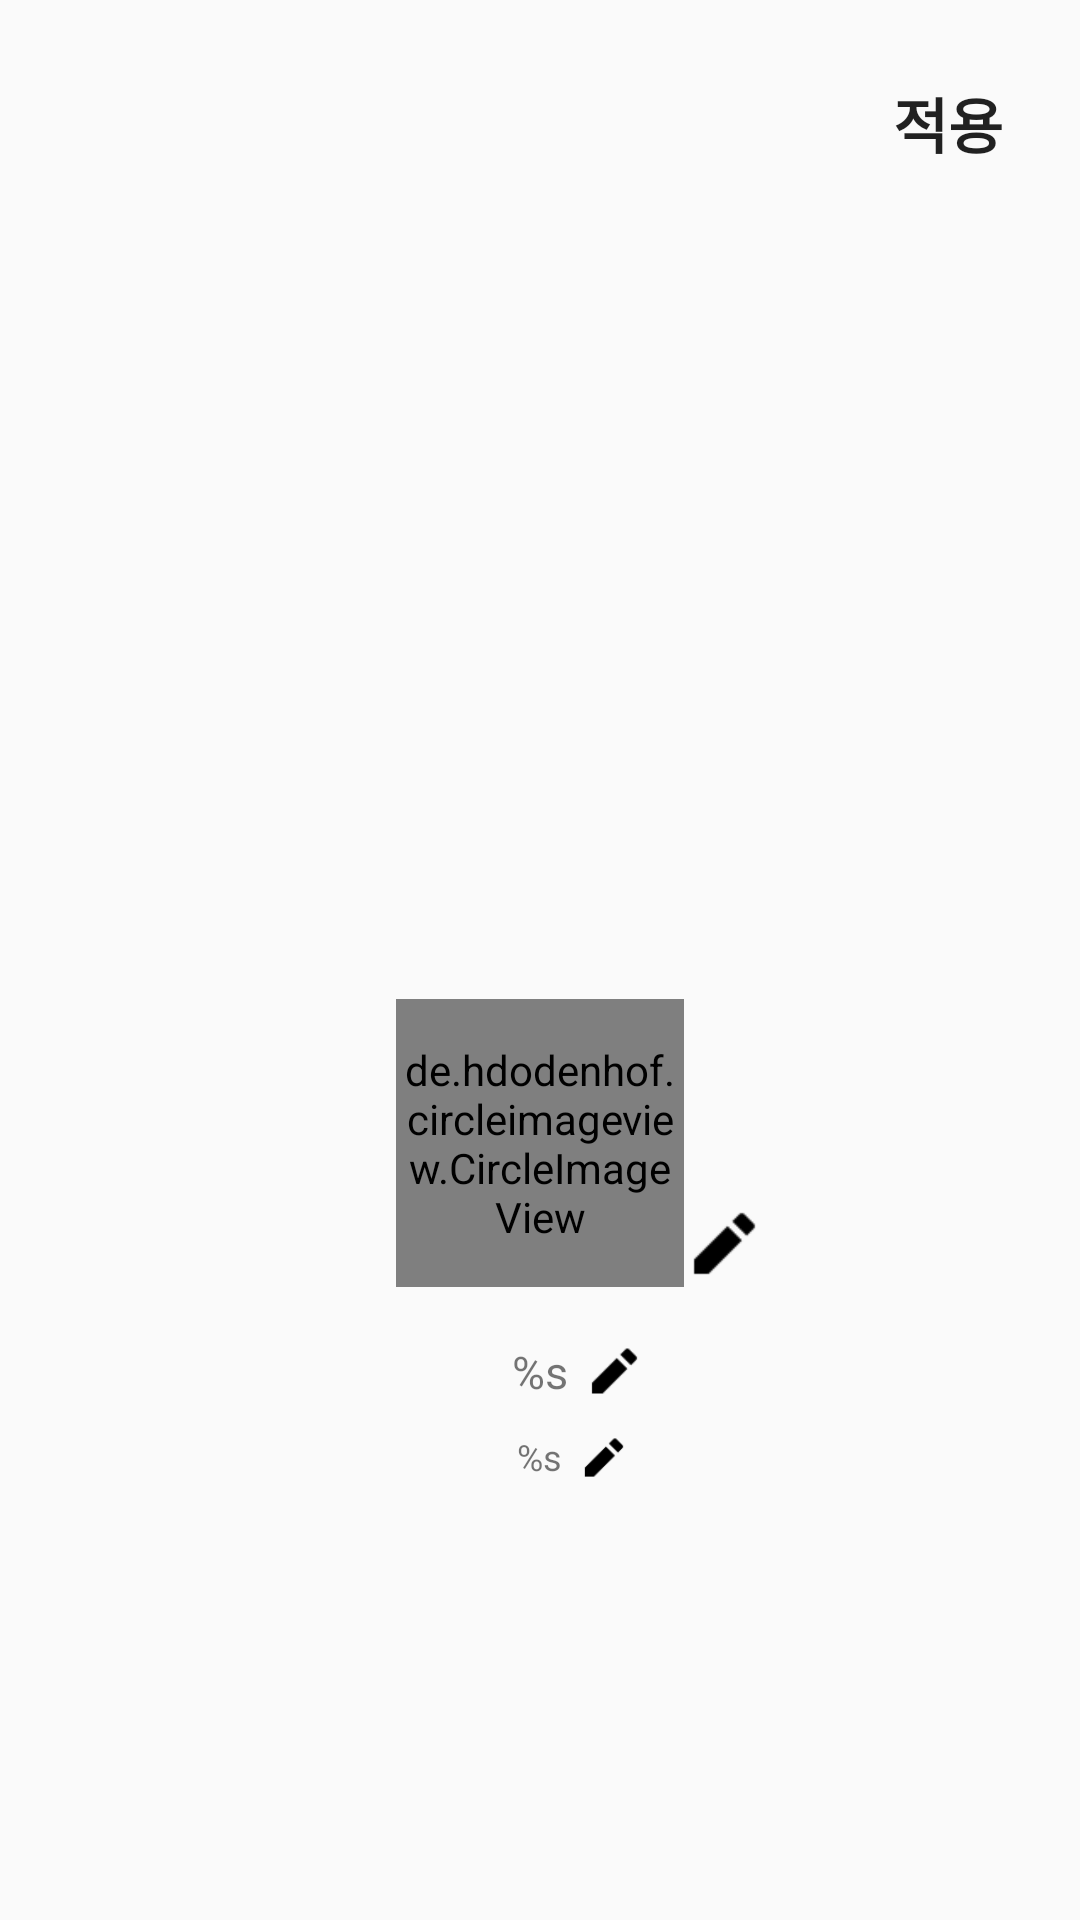

Icons on this 1080 × 1920 Android screen, each with its box as (x1, y1, x2, y2):
pencil: (693, 1212, 756, 1275), (591, 1348, 637, 1394), (584, 1438, 624, 1477)
